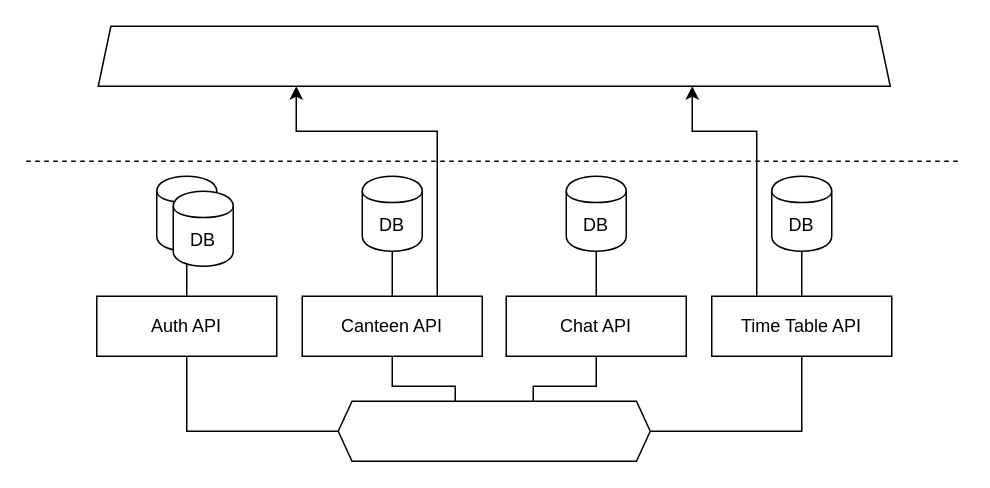
Image size: 990x488. Some labels were removed from this diagram. Each missing label, with the centre of its shape:
External Services: the point at 493,55
Message Broker: the point at 493,430
